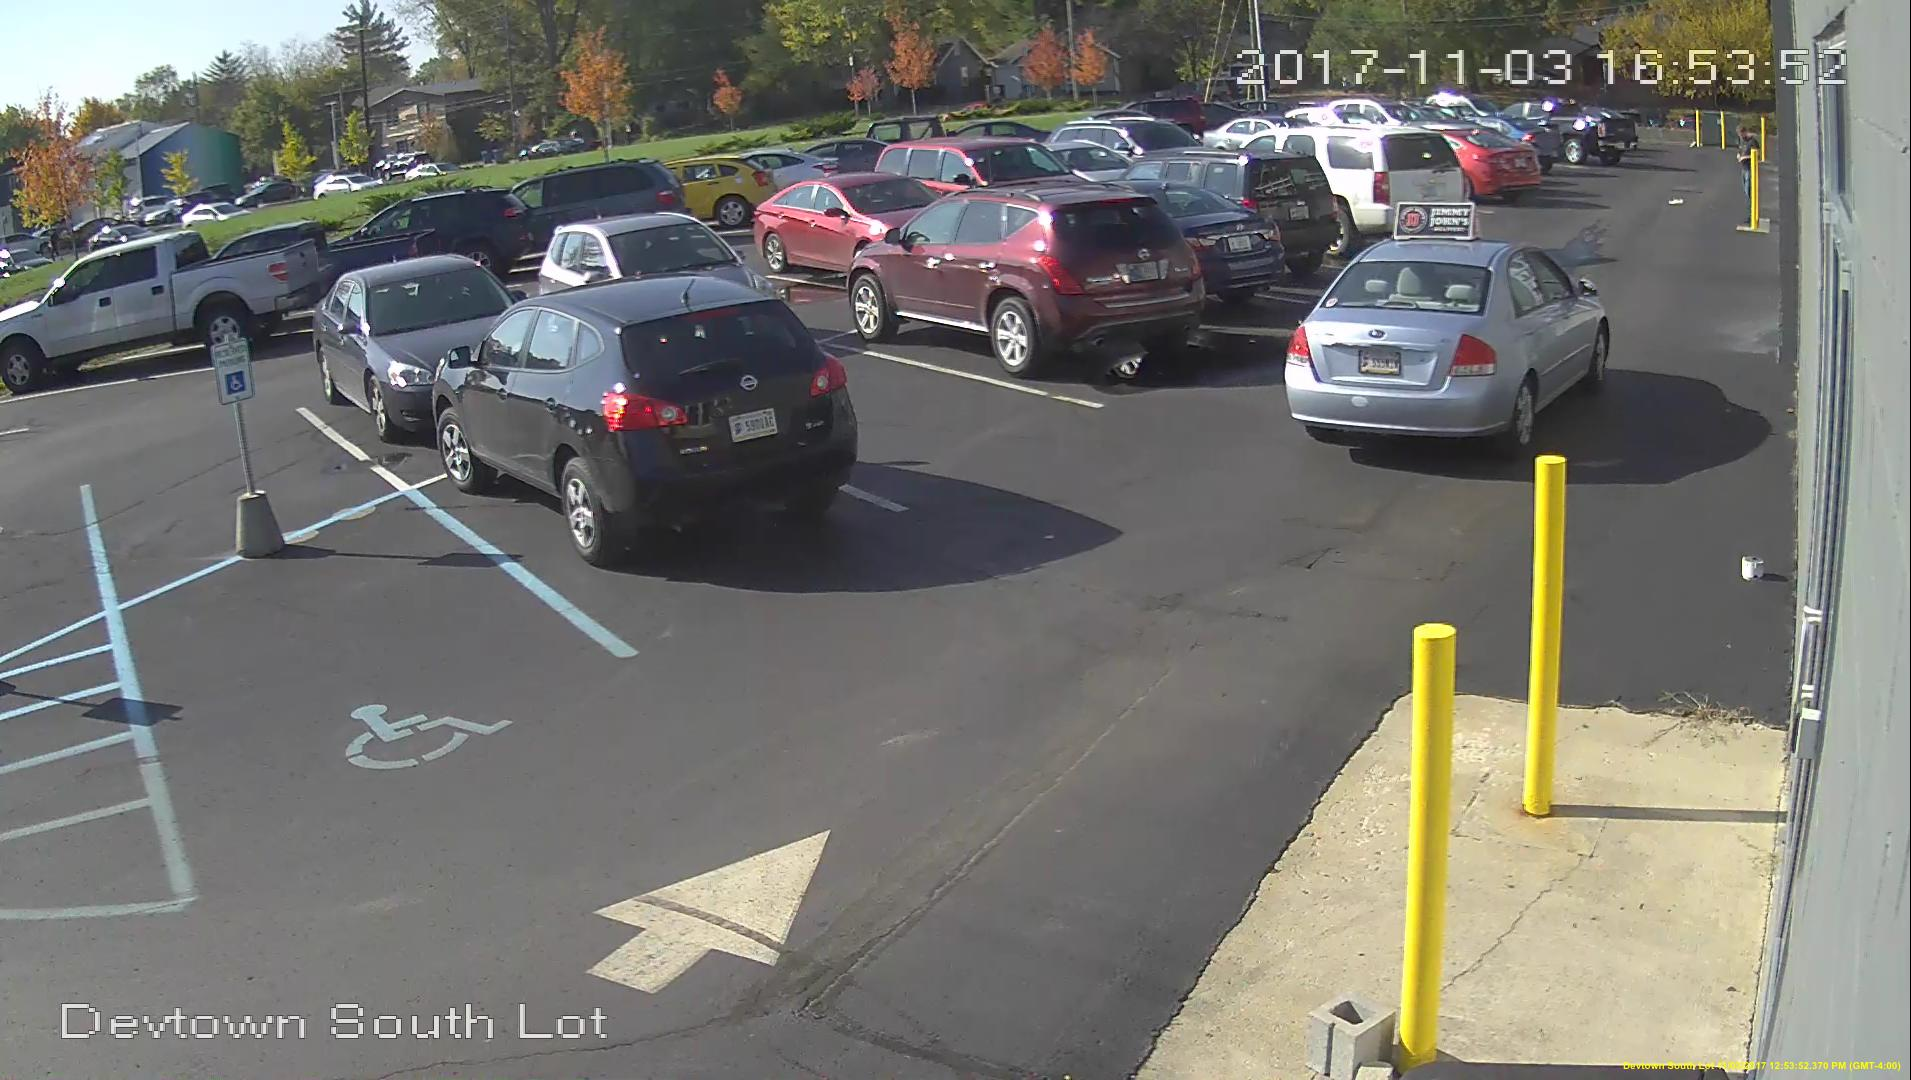jimmy_johns: (1393, 197, 1484, 244)
